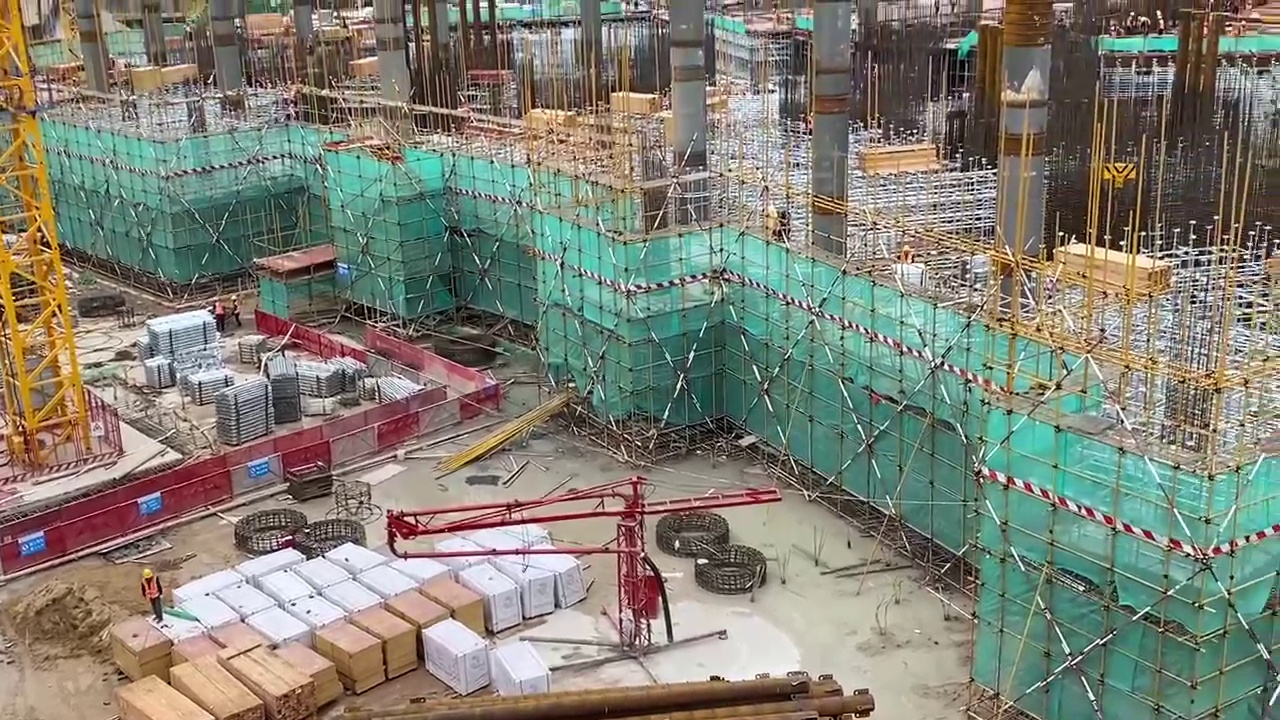board: (338, 574, 486, 708), (108, 616, 175, 679)
fence: (229, 409, 381, 477), (103, 456, 227, 534), (378, 377, 498, 436), (3, 496, 104, 561)
hook: (1099, 161, 1138, 188)
person: (140, 568, 166, 623), (210, 296, 229, 337), (226, 291, 243, 330)
rebar: (366, 663, 886, 720)
scaffold: (215, 376, 274, 446), (149, 309, 221, 351), (266, 356, 301, 423), (300, 362, 346, 399), (332, 357, 368, 384)
wood: (197, 648, 324, 720), (1060, 238, 1172, 292)
